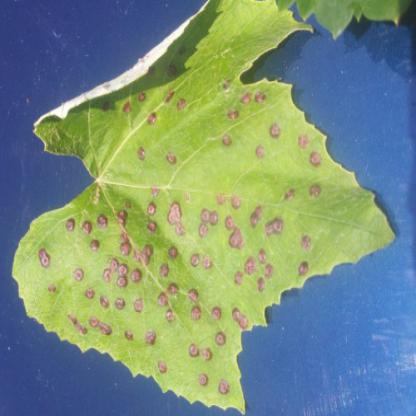grape leaf black rot: (15, 3, 400, 414)
